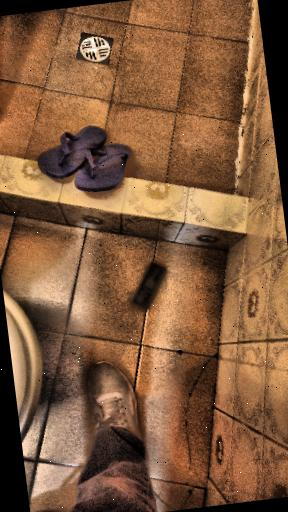borrador: (132, 262, 164, 308)
